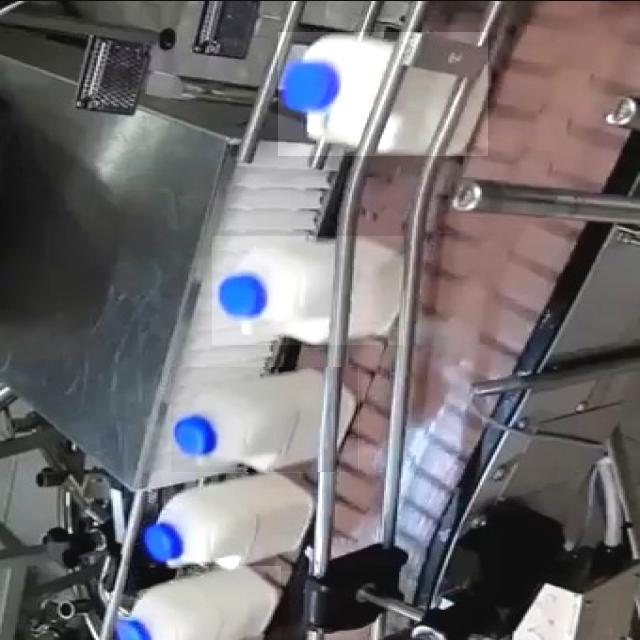milk: (278, 29, 496, 162), (204, 228, 415, 352), (169, 378, 369, 470), (136, 480, 332, 569), (103, 571, 298, 640)
